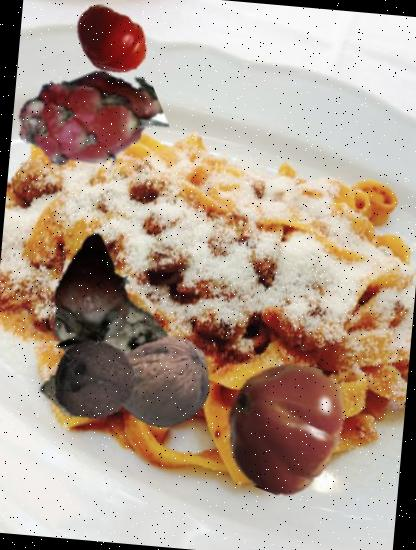Cauliflower: (24, 282, 183, 441)
Cocos: (46, 332, 141, 427)
Pitahaya: (14, 48, 170, 202)
Strawberry: (26, 236, 150, 359)
Tomato: (212, 354, 356, 500), (69, 0, 154, 81)
Walnut: (112, 330, 218, 434)
